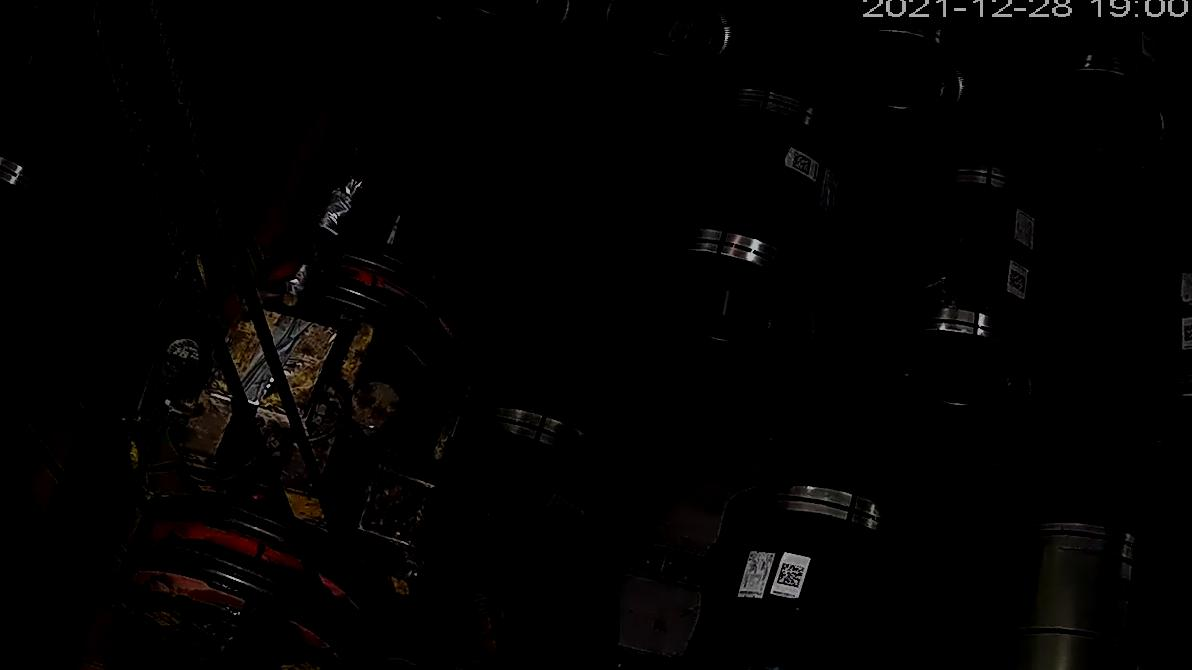data matrix: (551, 498, 581, 531), (776, 560, 807, 590), (791, 149, 814, 178), (1008, 268, 1028, 297), (1182, 321, 1192, 344)
